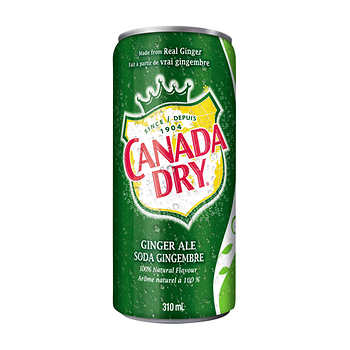Lata: (106, 25, 242, 327)
